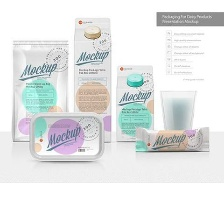carton: (70, 14, 114, 143), (112, 62, 159, 143)
glass: (157, 85, 198, 131)
plastic_box: (25, 109, 112, 165)
snack: (6, 34, 72, 143), (132, 123, 213, 156)
